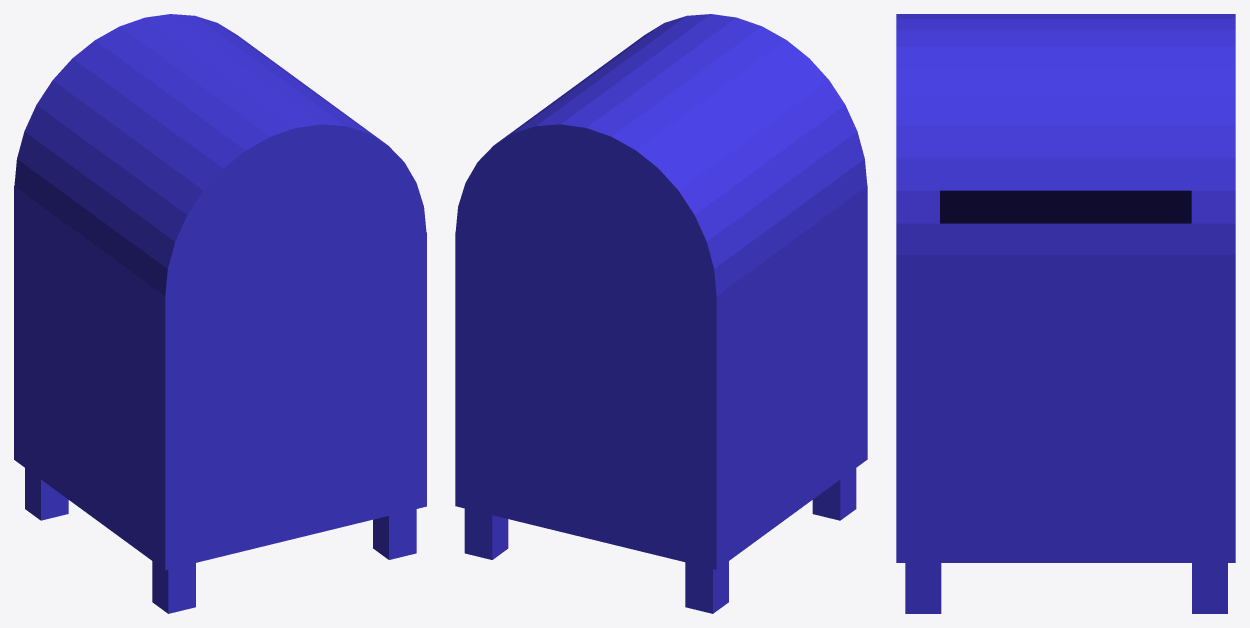
Rendered from Brievenbus.fbx.
3 renders of one model, left to right at view 1: azimuth 30°, elevation 25°; view 2: azimuth 150°, elevation 25°; view 3: azimuth 270°, elevation 25°, orthographic. The views are drawn at different scales.
Visible parts, largest first — view 1: Cube, Cylinder, Cube.003, Cube.001, Cube.004; view 2: Cube, Cylinder, Cube.004, Cube.002, Cube.003; view 3: Cube, Cylinder, Cube.001, Cube.002.
Boxes of the visible parts, x1,y1,x2,y2 form: Cube: [14, 186, 426, 570]; Cylinder: [14, 14, 426, 296]; Cube.003: [152, 561, 195, 613]; Cube.001: [373, 509, 416, 559]; Cube.004: [25, 468, 68, 520]; Cube: [455, 186, 867, 569]; Cylinder: [455, 14, 867, 296]; Cube.004: [685, 561, 728, 613]; Cube.002: [464, 508, 508, 559]; Cube.003: [812, 468, 856, 520]; Cube: [896, 255, 1235, 562]; Cylinder: [896, 14, 1235, 254]; Cube.001: [905, 563, 941, 613]; Cube.002: [1192, 563, 1227, 613].
Bounding box in the file's own units: 136 × 229 × 136.
